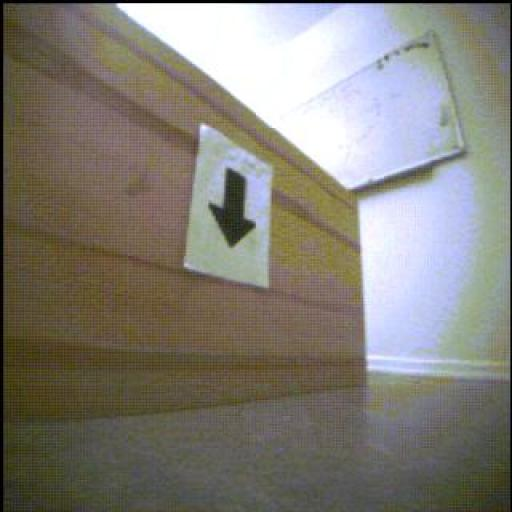arrow: (211, 169, 257, 247)
